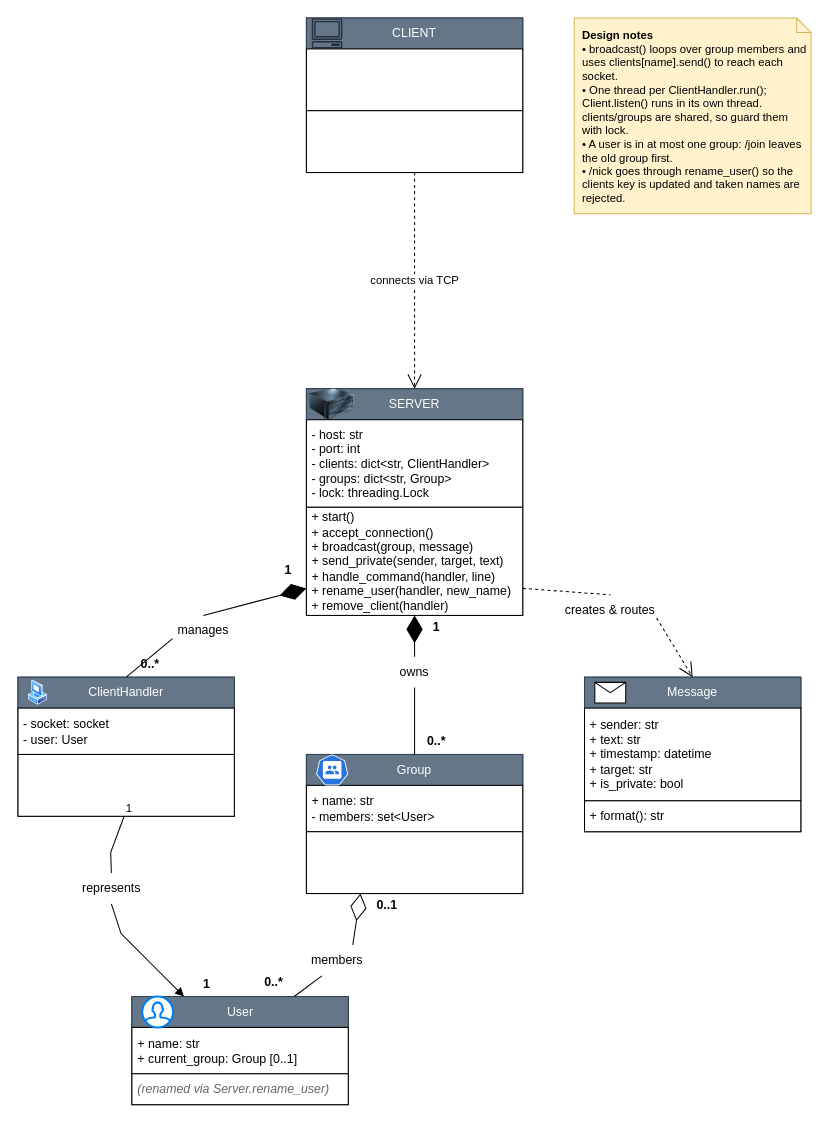
This 829x1123 diagram has some shape labels left out. Each missing label, with the centre of its shape:
"+ add(user) + remove(user) + list_members(): list" goes at point (414, 862).
"+ connect() + send_input(line) + listen()" goes at point (414, 141).
"+ run() + receive(): str + send(text)" goes at point (125, 784).
"- host: str - port: int - socket: socket" goes at point (414, 79).
